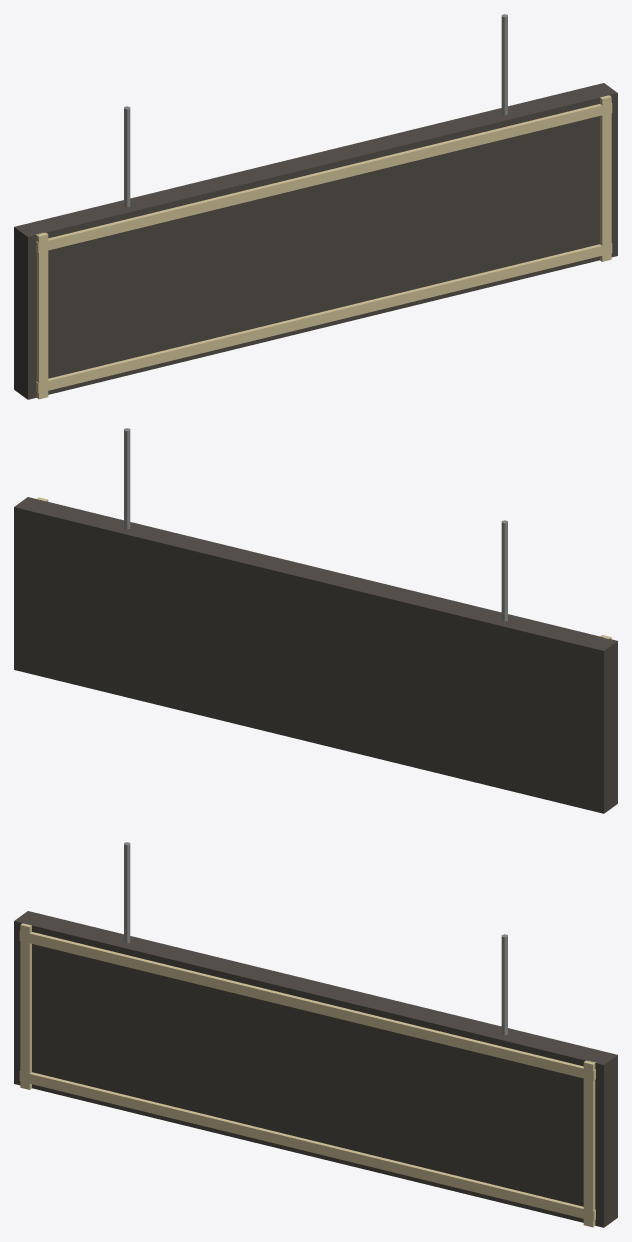
Rendered from prop_hanging_plaque.glb.
3 views of the same model, one above another, from view 1: azimuth 30°, elevation 25°; view 2: azimuth 150°, elevation 25°; view 3: azimuth 330°, elevation 25° (orthographic).
Parts seen in each view (by area): view 1: prop_hanging_plaque/hanging_plaque_body_00000, prop_hanging_plaque/plaque_frame_h_00004, prop_hanging_plaque/plaque_frame_h_00003, prop_hanging_plaque/plaque_frame_v_00001, prop_hanging_plaque/plaque_frame_v_00002, prop_hanging_plaque/plaque_suspension_chain_00005, prop_hanging_plaque/plaque_suspension_chain_00006; view 2: prop_hanging_plaque/hanging_plaque_body_00000, prop_hanging_plaque/plaque_suspension_chain_00005, prop_hanging_plaque/plaque_suspension_chain_00006; view 3: prop_hanging_plaque/hanging_plaque_body_00000, prop_hanging_plaque/plaque_frame_h_00004, prop_hanging_plaque/plaque_frame_h_00003, prop_hanging_plaque/plaque_frame_v_00002, prop_hanging_plaque/plaque_frame_v_00001, prop_hanging_plaque/plaque_suspension_chain_00005, prop_hanging_plaque/plaque_suspension_chain_00006.
Boxes of the visible parts, left/top/right/bottom form: prop_hanging_plaque/hanging_plaque_body_00000: left=14, top=83, right=617, bottom=399; prop_hanging_plaque/plaque_frame_h_00004: left=36, top=103, right=612, bottom=252; prop_hanging_plaque/plaque_frame_h_00003: left=36, top=243, right=612, bottom=393; prop_hanging_plaque/plaque_frame_v_00001: left=36, top=232, right=48, bottom=399; prop_hanging_plaque/plaque_frame_v_00002: left=600, top=95, right=611, bottom=261; prop_hanging_plaque/plaque_suspension_chain_00005: left=124, top=106, right=130, bottom=207; prop_hanging_plaque/plaque_suspension_chain_00006: left=501, top=14, right=507, bottom=115; prop_hanging_plaque/hanging_plaque_body_00000: left=14, top=497, right=617, bottom=813; prop_hanging_plaque/plaque_suspension_chain_00005: left=501, top=520, right=507, bottom=621; prop_hanging_plaque/plaque_suspension_chain_00006: left=124, top=428, right=130, bottom=529; prop_hanging_plaque/hanging_plaque_body_00000: left=14, top=911, right=617, bottom=1227; prop_hanging_plaque/plaque_frame_h_00004: left=19, top=931, right=595, bottom=1080; prop_hanging_plaque/plaque_frame_h_00003: left=19, top=1071, right=595, bottom=1221; prop_hanging_plaque/plaque_frame_v_00002: left=583, top=1060, right=595, bottom=1227; prop_hanging_plaque/plaque_frame_v_00001: left=20, top=923, right=31, bottom=1089; prop_hanging_plaque/plaque_suspension_chain_00005: left=124, top=842, right=130, bottom=943; prop_hanging_plaque/plaque_suspension_chain_00006: left=501, top=934, right=507, bottom=1035.
Size of the model in its own units: 2.2 by 0.93 by 0.105.
